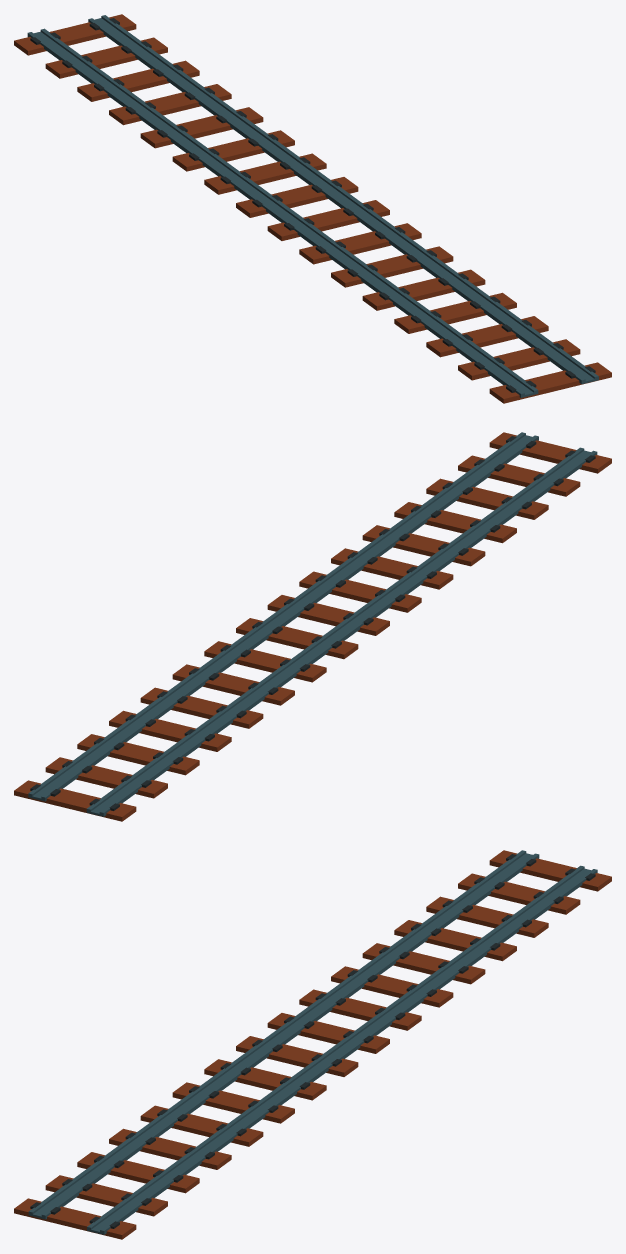
File: TrainTracks_Straight.fbx
3 renders of one model, top to bottom at view 1: azimuth 30°, elevation 25°; view 2: azimuth 150°, elevation 25°; view 3: azimuth 330°, elevation 25°, orthographic.
Visible parts, largest first — view 1: Train_Straight; view 2: Train_Straight; view 3: Train_Straight.
Part boxes in pixels (x1,y1,x2,y2): Train_Straight: (14,14,611,403); Train_Straight: (14,432,611,821); Train_Straight: (14,850,611,1239).
Bounding box in the file's own units: 200 × 12.11 × 1583.
